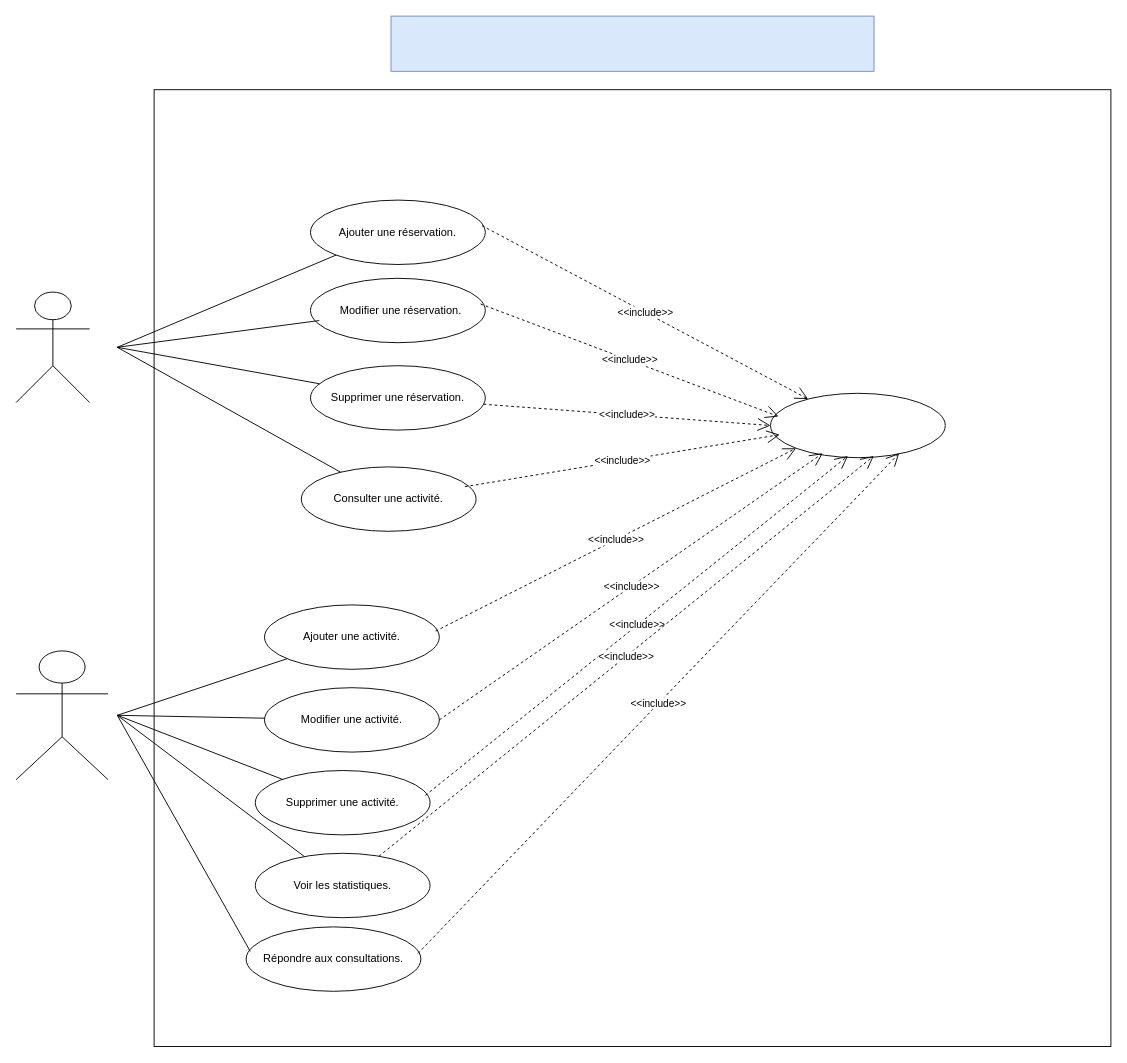
The diagram is 1127 pixels wide and 1063 high, and some of its shapes have lost their labels. The shapes that lost their labels are listed below. From the top down, each one's centre as x and y in pixels, then its label:
[632,43]: Système de gestion de la salle de sport "The Lost Round"
[52,346]: membre
[857,425]: s'authentifier
[61,715]: administration
